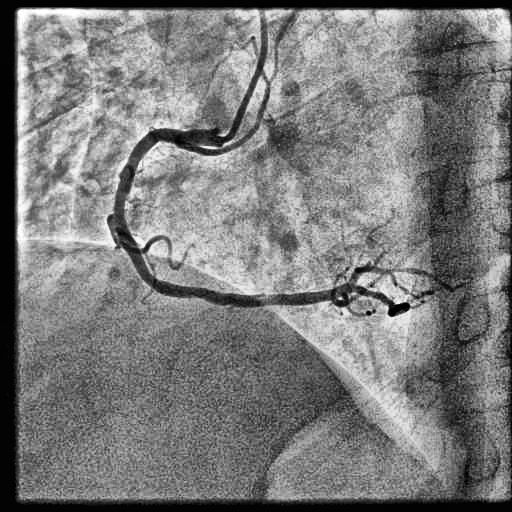pborca: (350, 265, 446, 287)
pda: (353, 286, 409, 316)
rca: (114, 128, 352, 307)
